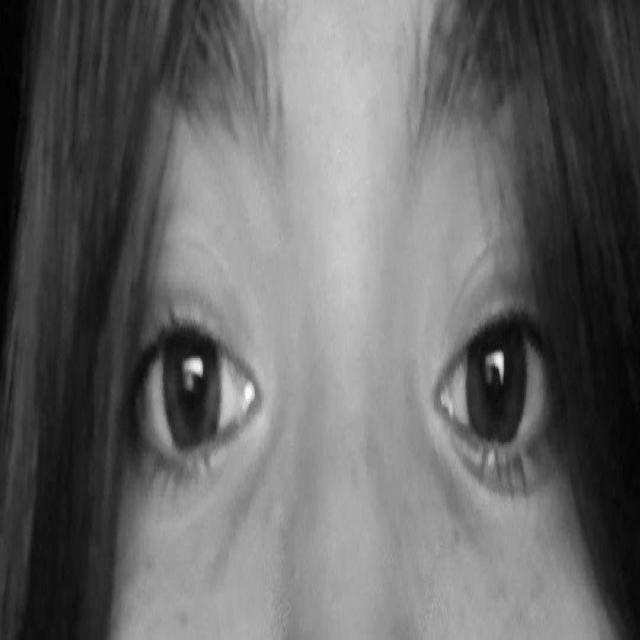real: (107, 249, 571, 546)
